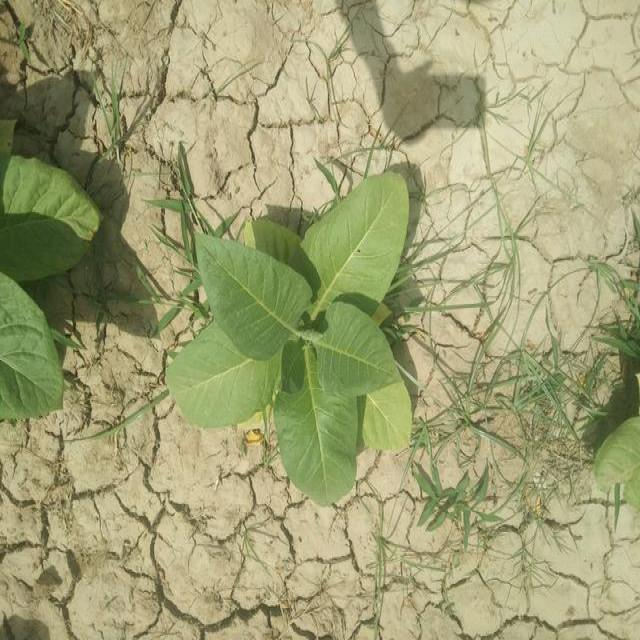crop: (177, 173, 435, 471), (0, 148, 90, 420)
